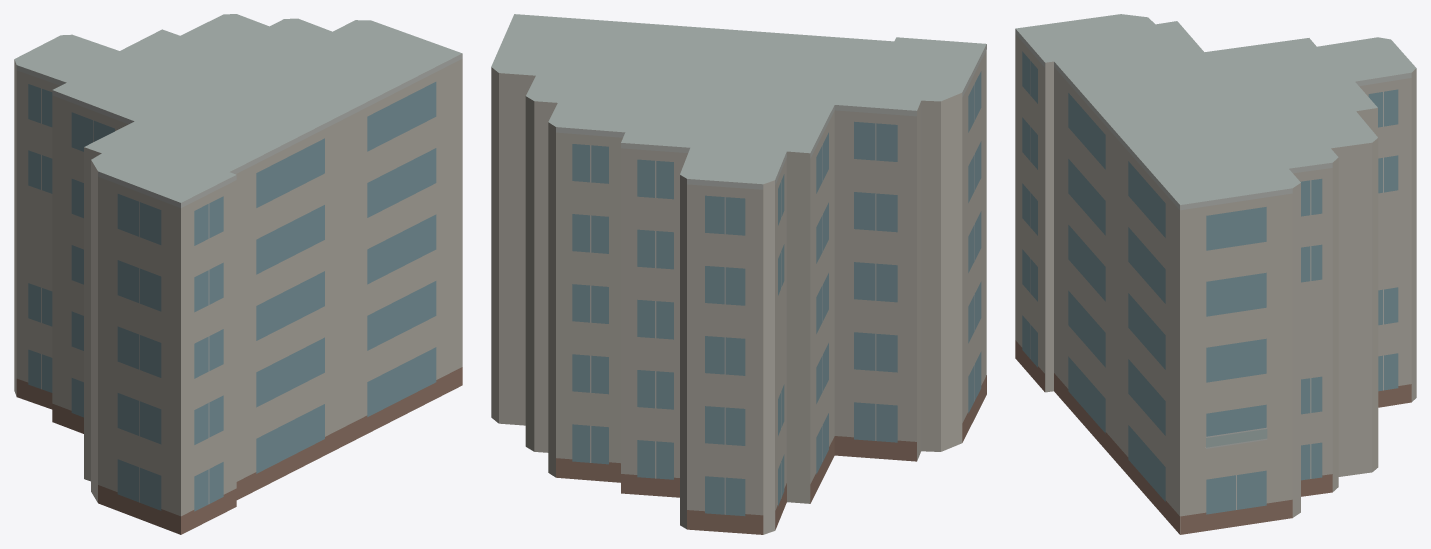
The model's file is survey-upis-32580024.glb.
3 views of the same model, side by side, from view 1: azimuth 30°, elevation 25°; view 2: azimuth 150°, elevation 25°; view 3: azimuth 270°, elevation 25° (orthographic). The views are drawn at different scales.
Visible parts, largest first — view 1: survey-upis-32580024.tmp; view 2: survey-upis-32580024.tmp; view 3: survey-upis-32580024.tmp.
Part boxes in pixels (left/top/right/bottom): survey-upis-32580024.tmp: left=14, top=14, right=462, bottom=534; survey-upis-32580024.tmp: left=491, top=14, right=986, bottom=534; survey-upis-32580024.tmp: left=1015, top=14, right=1416, bottom=534.
Bounding box in the file's own units: 19.15 × 15.4 × 16.99.
